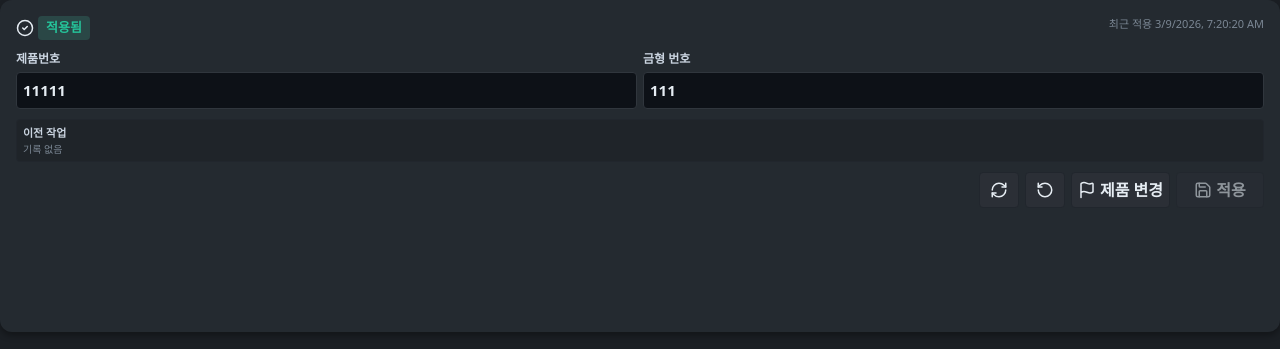
Test: OperatorMetadataComponent › reloads server values without resetting stored metadata
Check: the field labelled "제품번호" holds "11111", box [16, 72, 637, 108]
Check: the field labelled "금형 번호" holds "111", box [643, 72, 1264, 108]
Click the button named "서버 값 새로고침". click: (999, 190)
box: [979, 172, 1019, 208]
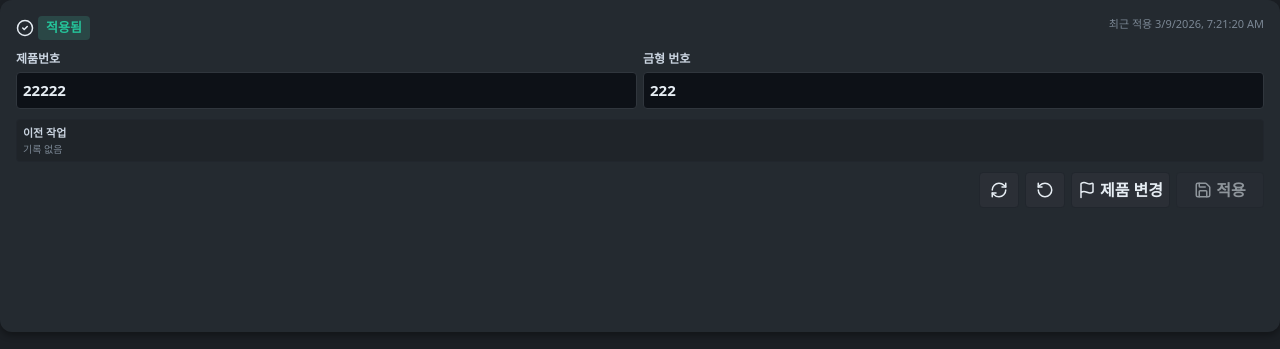
Check: the field labelled "제품번호" holds "22222", box [16, 72, 637, 108]
Check: the field labelled "금형 번호" holds "222", box [643, 72, 1264, 108]
